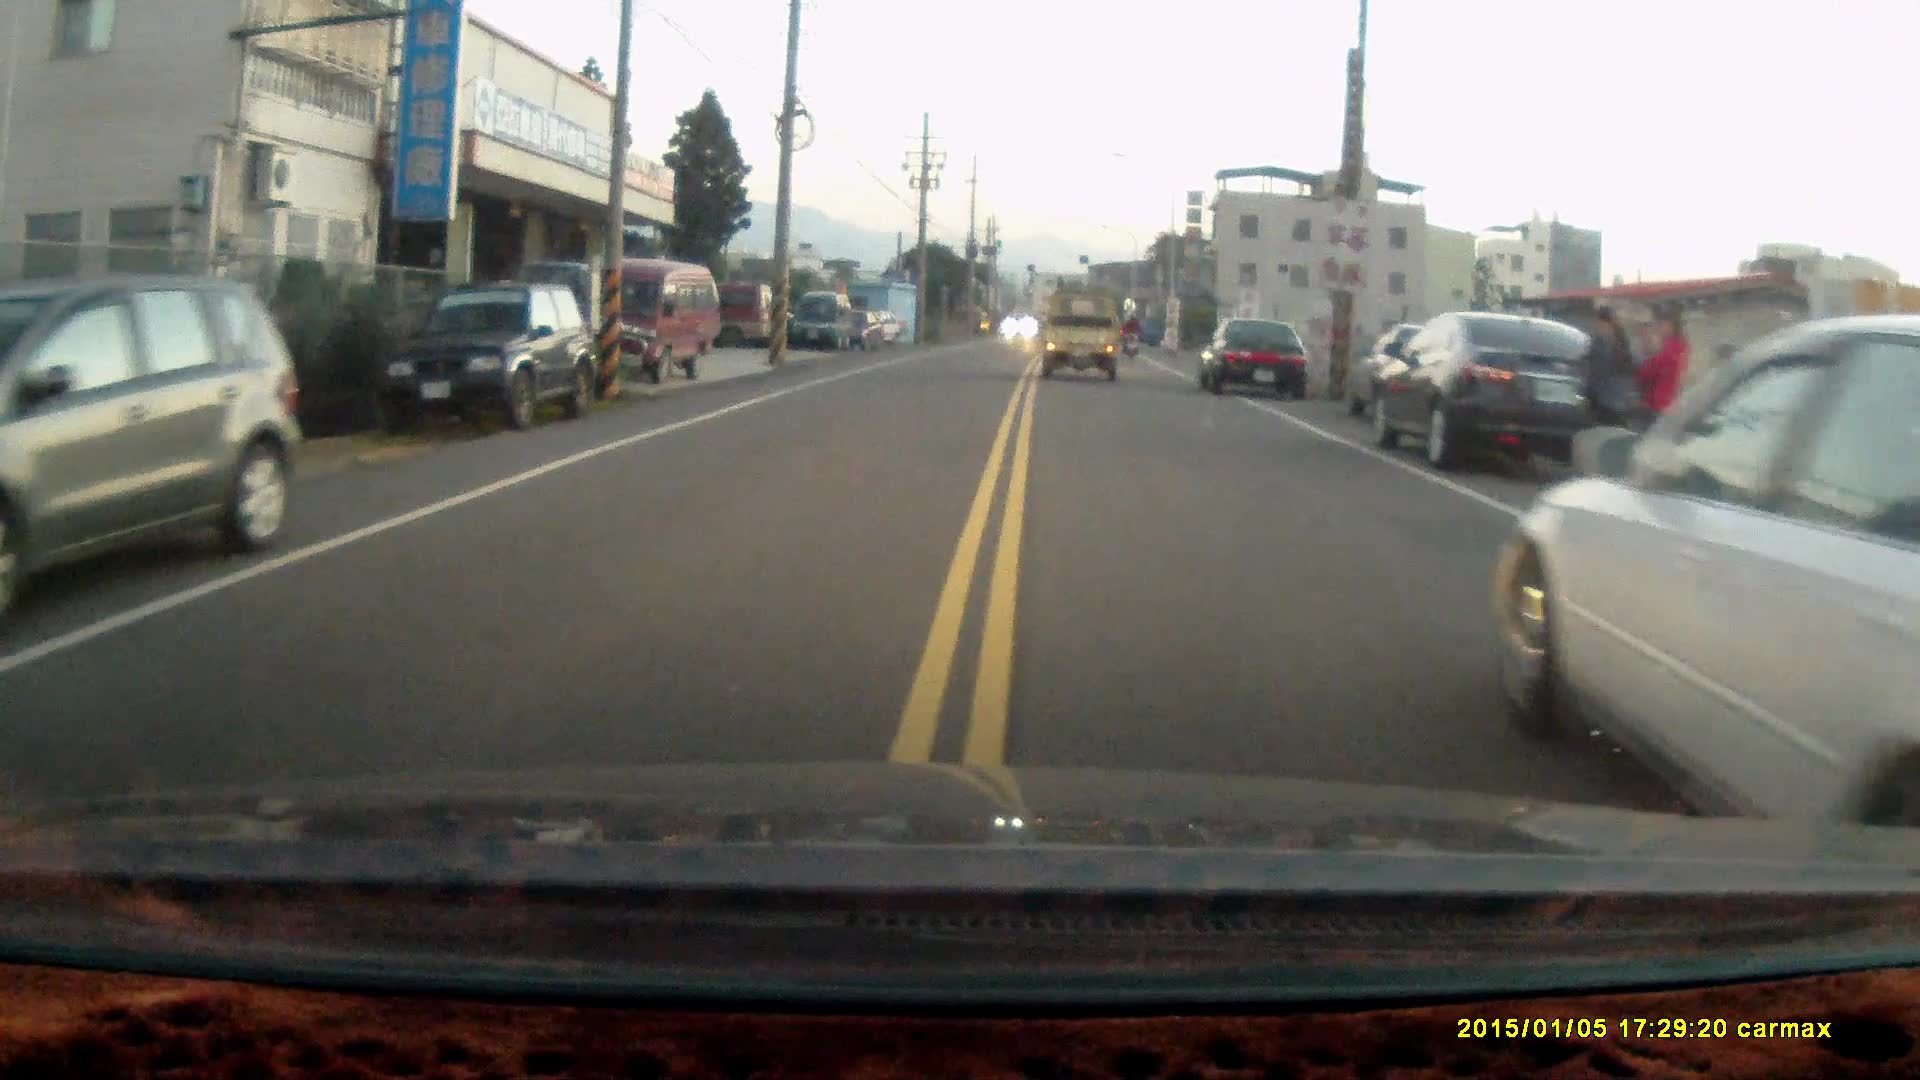pedestrian: (1565, 303, 1637, 502), (1625, 309, 1694, 504)
vehicle: (1498, 311, 1920, 838), (1, 269, 308, 624), (1366, 313, 1639, 477), (383, 279, 587, 432), (561, 255, 727, 383), (1201, 318, 1313, 399), (1036, 288, 1121, 379), (787, 292, 854, 349)
